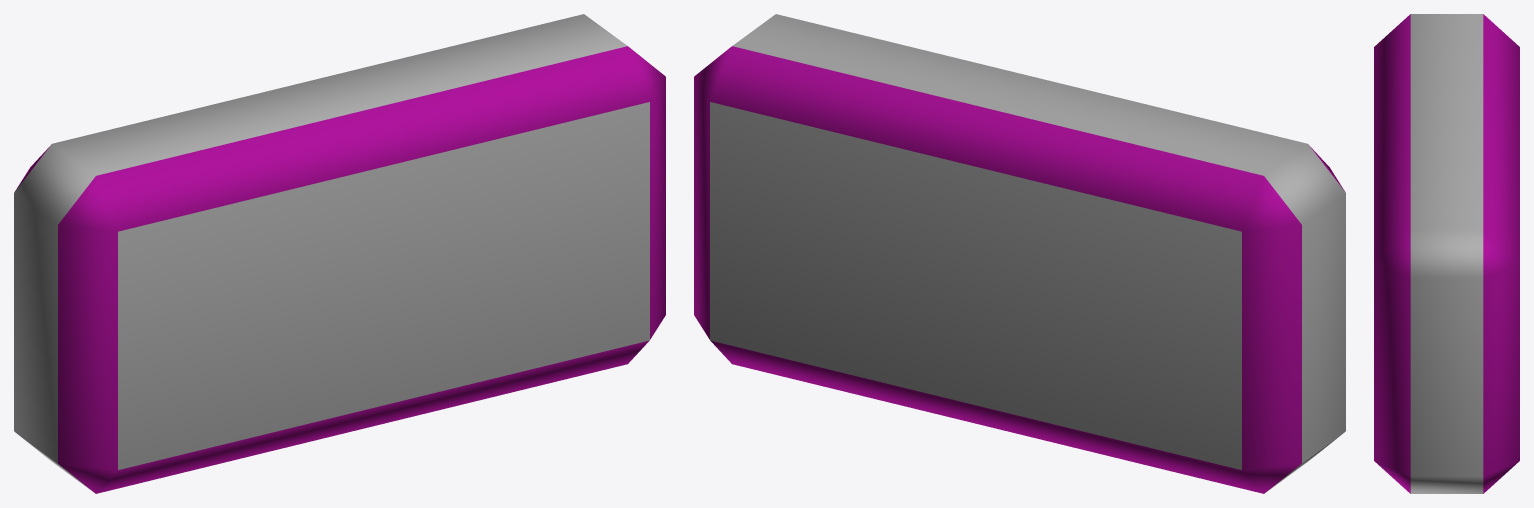
The model's file is block_short.fbx.
3 views of the same model, side by side, from view 1: azimuth 30°, elevation 25°; view 2: azimuth 150°, elevation 25°; view 3: azimuth 270°, elevation 25° (orthographic). The views are drawn at different scales.
Visible parts, largest first — view 1: polySurface23; view 2: polySurface23; view 3: polySurface23.
Part boxes in pixels (x1,y1,x2,y2): polySurface23: (14, 14, 665, 493); polySurface23: (694, 14, 1345, 493); polySurface23: (1374, 14, 1519, 493).
Size of the model in its own units: 2 by 1 by 0.5.
